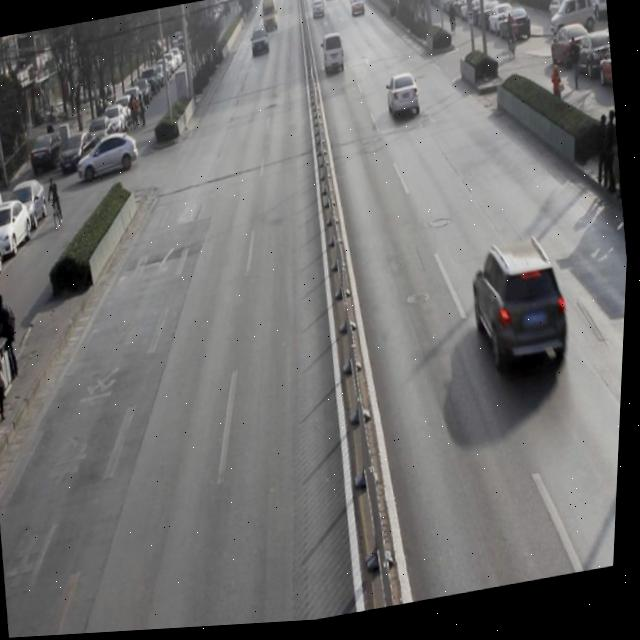car: (467, 237, 581, 392), (384, 73, 425, 129), (247, 25, 273, 62), (349, 0, 369, 24)
truck: (318, 30, 349, 82), (259, 0, 280, 33)
